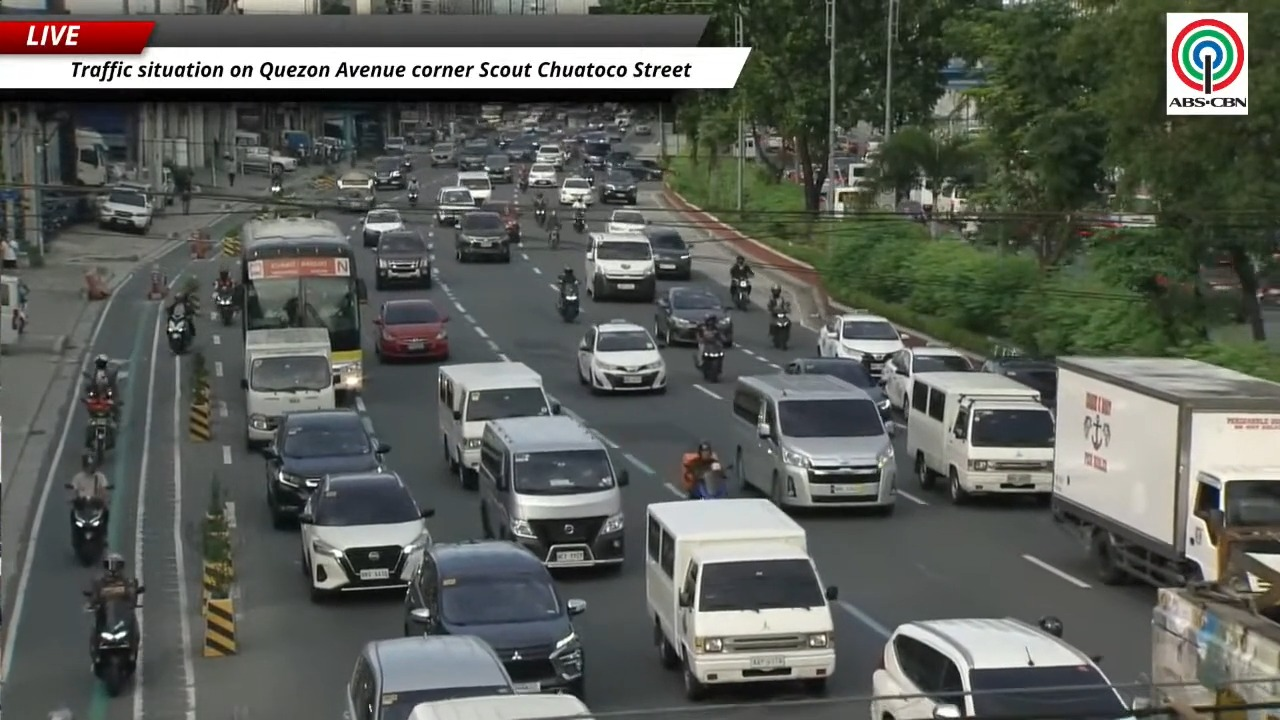bus: (241, 217, 366, 398)
car: (404, 540, 585, 697), (870, 618, 1133, 719), (299, 470, 433, 601), (263, 408, 389, 527), (344, 635, 514, 719), (784, 358, 890, 419), (577, 320, 666, 392), (880, 346, 974, 410), (817, 311, 904, 377), (374, 298, 449, 361), (654, 286, 733, 345), (980, 355, 1057, 408), (375, 228, 432, 289), (455, 211, 510, 262), (644, 225, 691, 280), (98, 189, 152, 233), (479, 200, 520, 242), (362, 208, 404, 247), (435, 187, 476, 224), (457, 138, 495, 171), (600, 171, 637, 204), (456, 172, 492, 205), (372, 156, 406, 188), (558, 177, 594, 205), (606, 210, 648, 233), (581, 136, 610, 169), (620, 158, 663, 180), (484, 152, 512, 182), (337, 189, 375, 211), (504, 138, 536, 162), (535, 143, 564, 168), (528, 163, 557, 187), (431, 143, 457, 166), (605, 150, 633, 170), (384, 136, 407, 155), (605, 124, 624, 144), (632, 123, 651, 136)
motorcycle: (88, 597, 140, 696), (70, 498, 107, 566), (86, 415, 113, 465), (688, 468, 728, 498), (698, 341, 724, 382), (166, 316, 190, 354), (557, 283, 580, 322), (769, 309, 791, 349), (214, 291, 235, 325), (731, 279, 751, 310), (506, 220, 520, 243), (548, 226, 560, 249), (535, 207, 546, 227), (573, 215, 585, 233), (270, 181, 282, 198), (407, 190, 418, 206), (518, 177, 527, 193)
truck: (1051, 357, 1279, 591), (1147, 585, 1279, 719), (241, 327, 335, 447), (74, 128, 108, 186), (239, 146, 297, 174)
